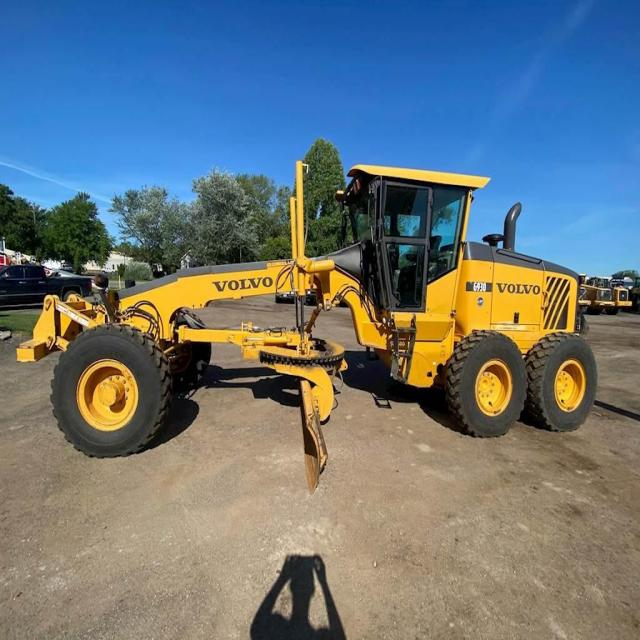buldozerpayloadergrader: (22, 141, 602, 457)
